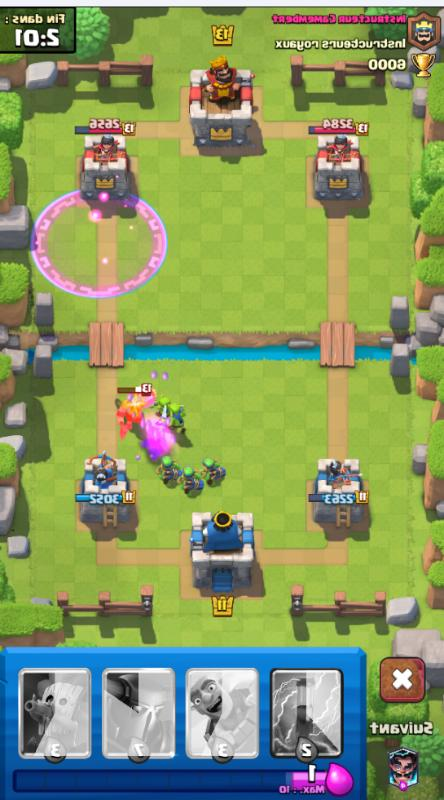gobelin: (153, 394, 175, 430), (166, 404, 188, 437)
gobelin_lances: (201, 455, 232, 496), (178, 461, 205, 495), (153, 455, 180, 488)
